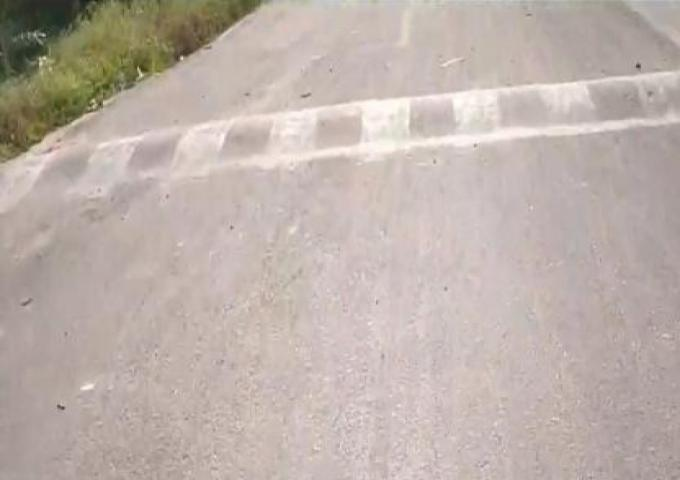speedbreaker: (11, 67, 680, 197)
